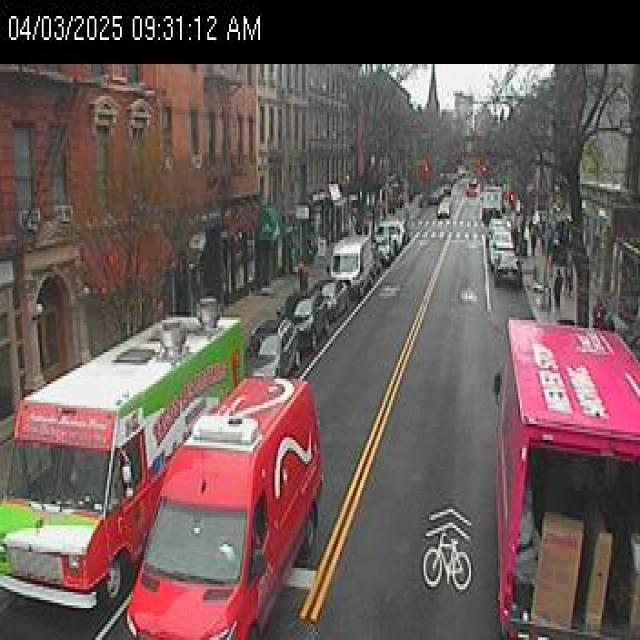open parking: (483, 232, 557, 384)
